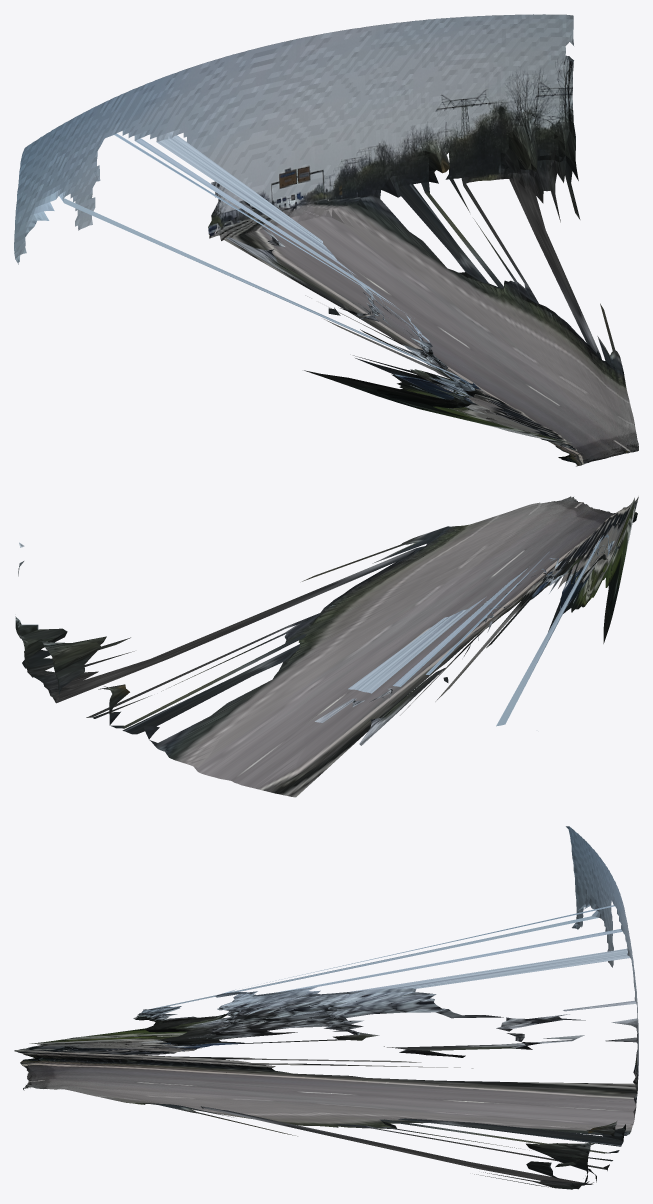
3 renders of one model, top to bottom at view 1: azimuth 30°, elevation 25°; view 2: azimuth 150°, elevation 25°; view 3: azimuth 270°, elevation 25°, orthographic. The views are drawn at different scales.
Visible parts, largest first — view 1: defaultobject; view 2: defaultobject; view 3: defaultobject.
Boxes of the visible parts, box(x1,y1,x2,y2) form: defaultobject: box(14, 14, 638, 466); defaultobject: box(15, 496, 638, 797); defaultobject: box(14, 826, 638, 1189).
Bounding box in the file's own units: 41.09 × 13.32 × 45.21.
Materials: 1 (1 with a texture image).
